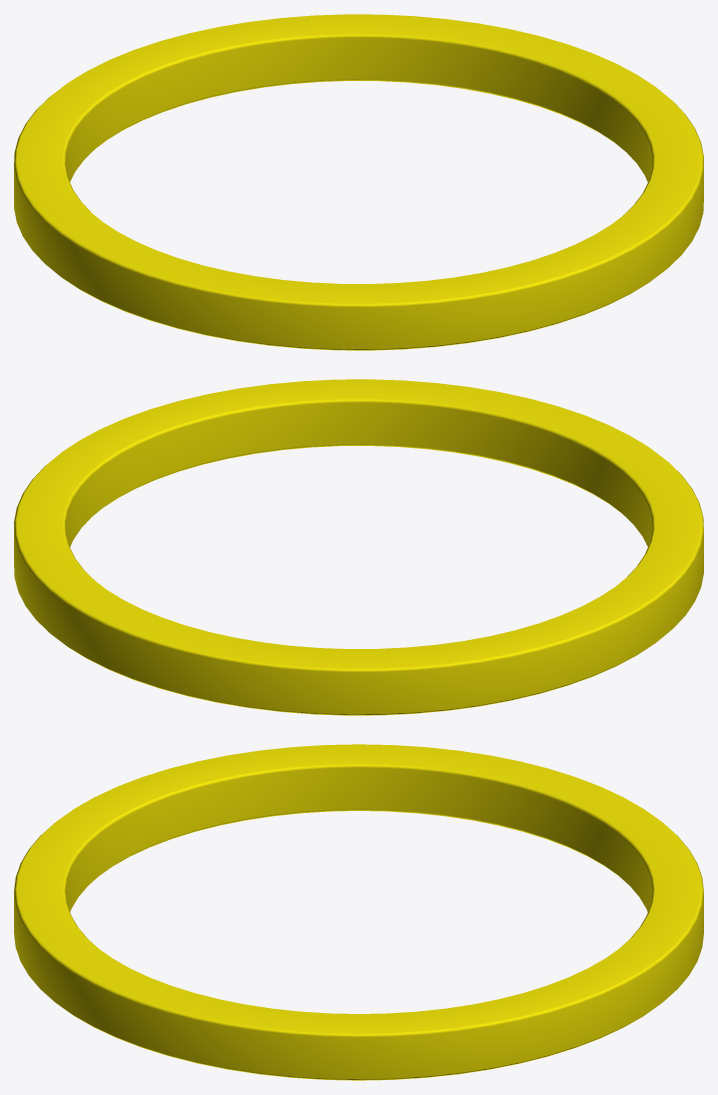
3 views of the same model, one above another, from view 1: azimuth 30°, elevation 25°; view 2: azimuth 150°, elevation 25°; view 3: azimuth 270°, elevation 25° (orthographic).
Parts seen in each view (by area): view 1: seal_body; view 2: seal_body; view 3: seal_body.
Part boxes in pixels (<box>): seal_body: <box>14,14,703,350</box>; seal_body: <box>14,379,703,715</box>; seal_body: <box>14,744,703,1080</box>.
Bounding box in the file's own units: 0.0523 × 0.00396 × 0.0523.
